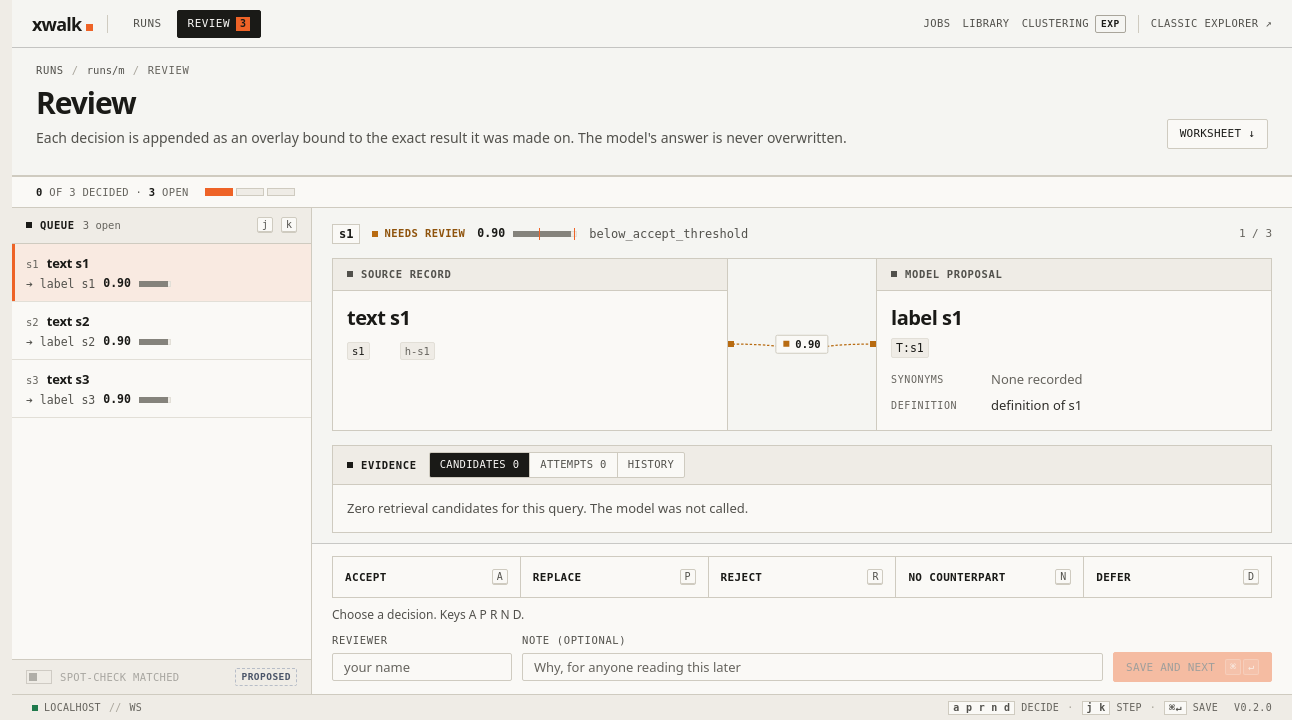
the review screen › checks a typed replacement id against the reference before saving
The image size is (1292, 720).
Type "jan" into the field labelled "Reviewer" at {"x": 422, "y": 667}, box [342, 657, 502, 677]
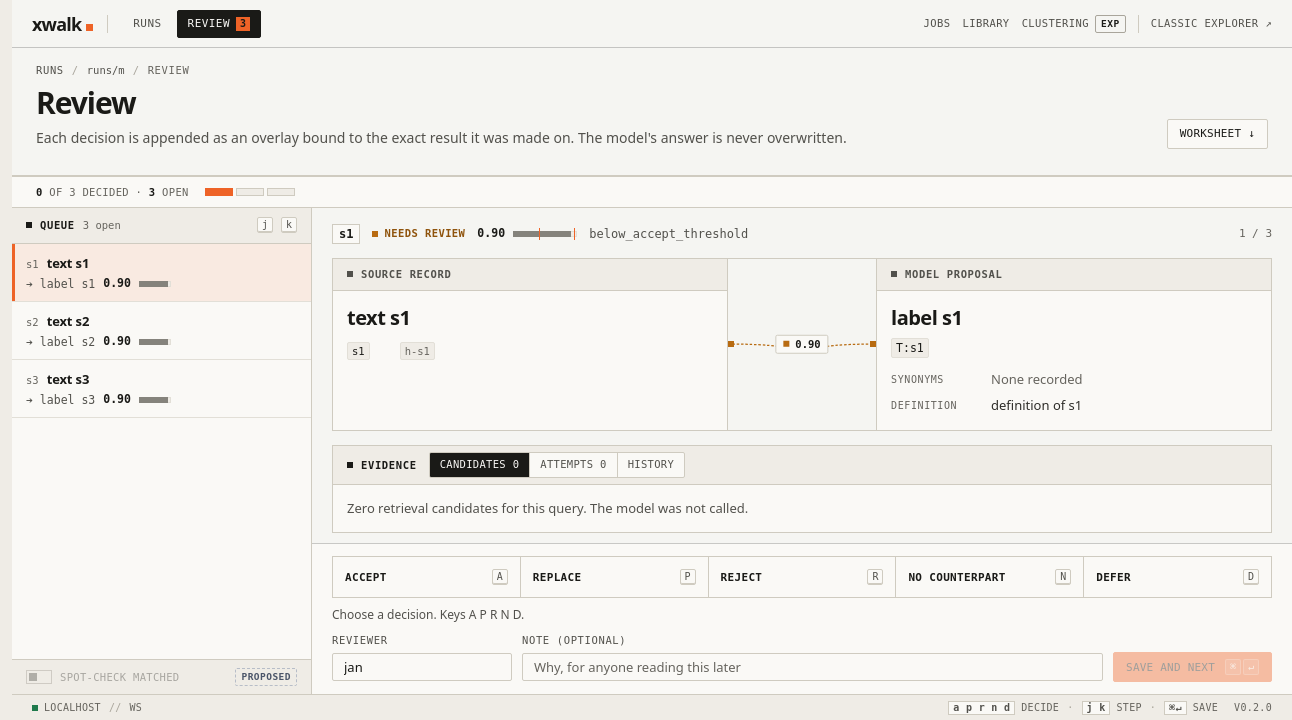
Press p
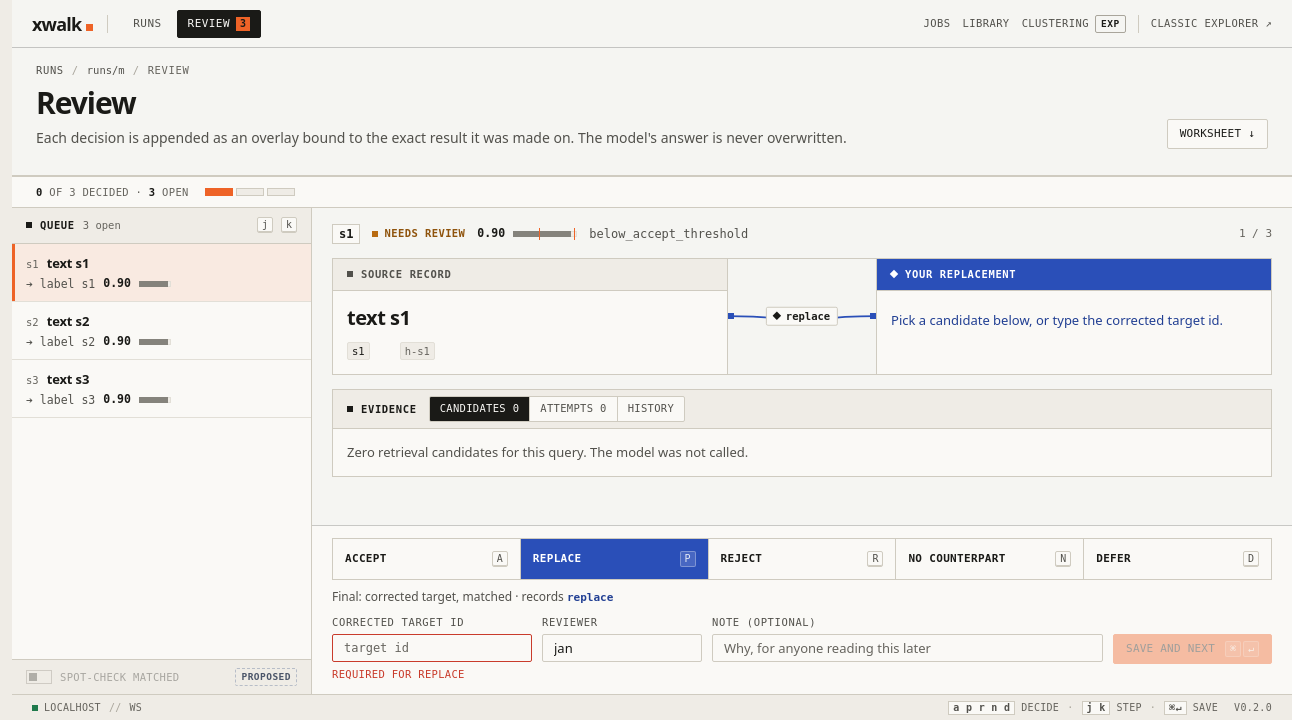
Type "T:nope" into the field labelled "Corrected target id" at {"x": 432, "y": 648}, box [342, 640, 522, 656]
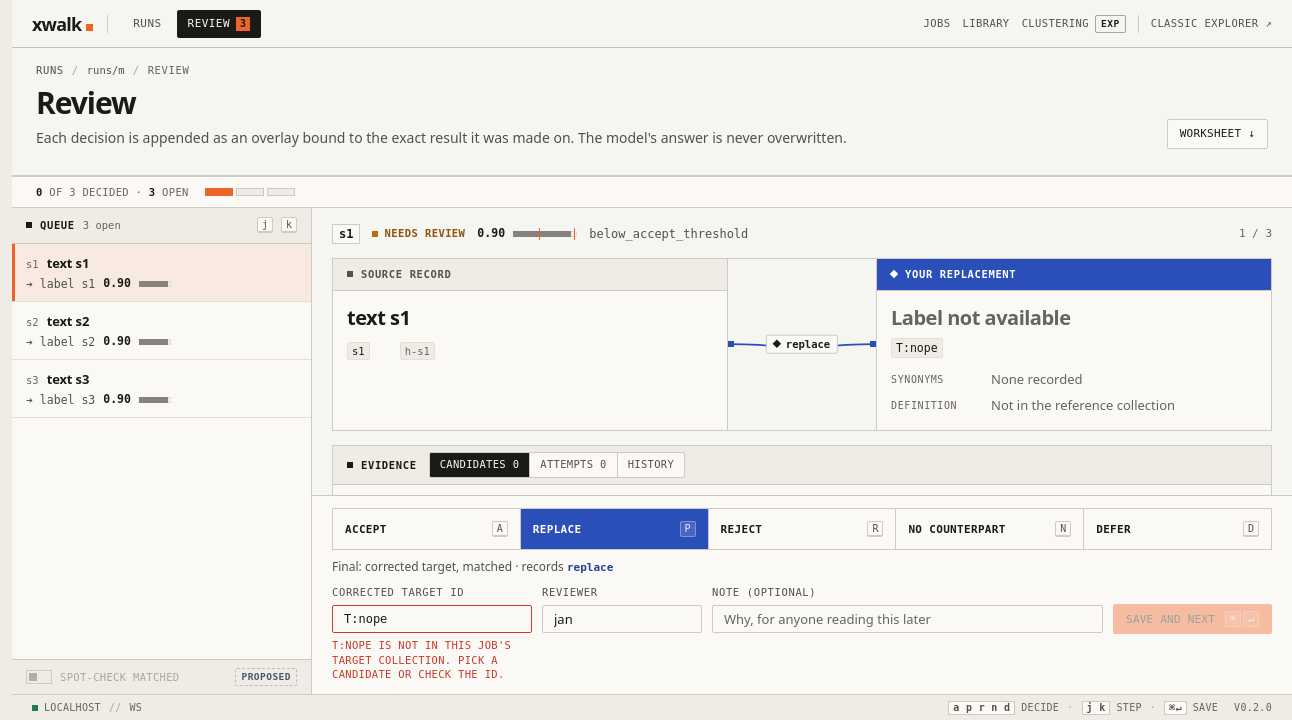
expect the button "Save and next ⌘ ↵" is disabled: met, box [1113, 604, 1272, 634]
expect the text "not in this job's target collection" is shown: met, box [332, 639, 511, 680]
Replace the text in the field labelled "Corrected target id" with "T:known" at {"x": 432, "y": 619}, box [342, 611, 522, 627]
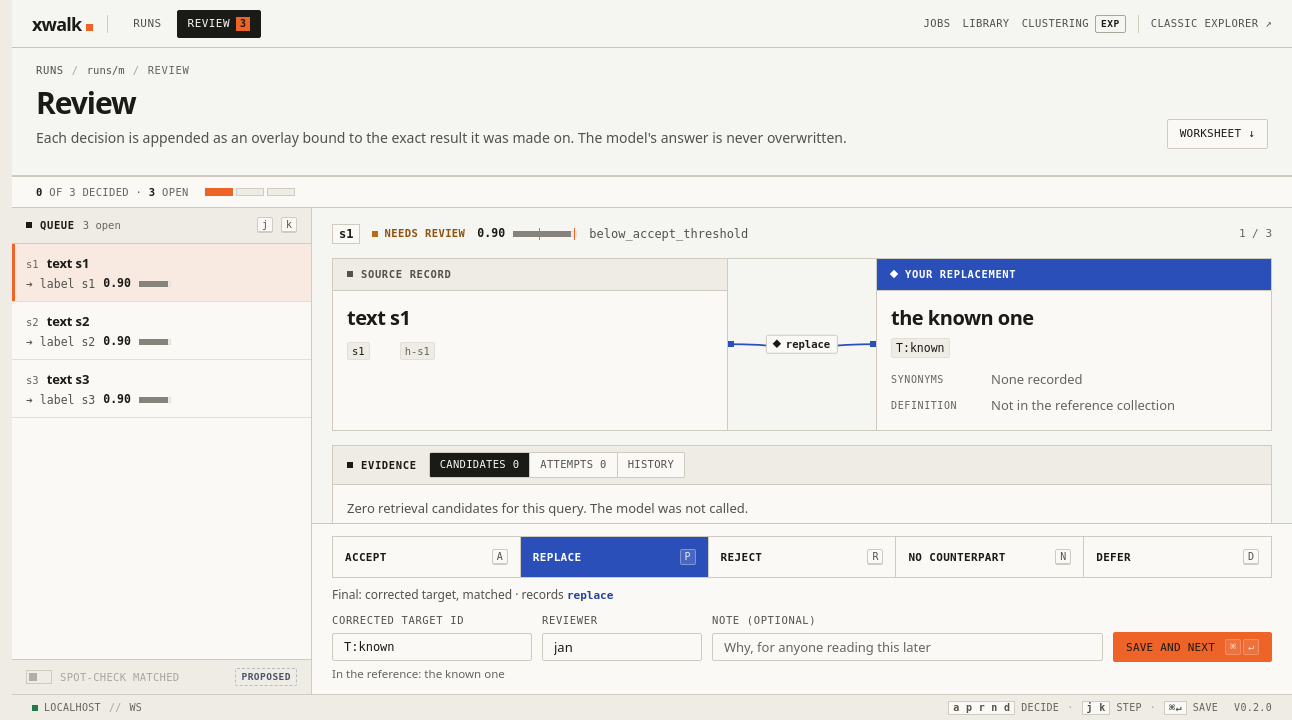
expect the text "not in this job's target collection" is gone: met
expect the text "the known one" is shown: met, box [891, 304, 1034, 331]
expect the button "Save and next ⌘ ↵" is enabled: met, box [1113, 632, 1272, 662]
